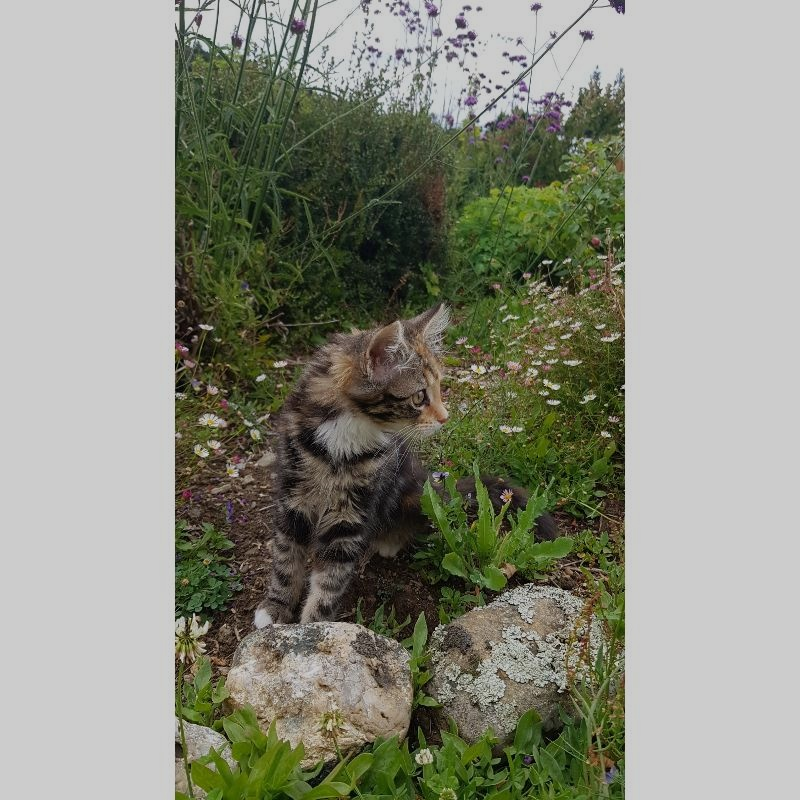red: (253, 302, 457, 626)
